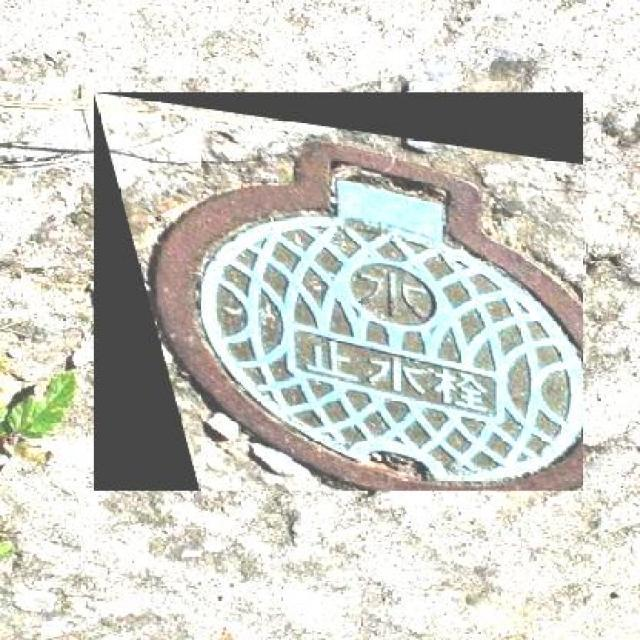Manhole: (94, 92, 583, 491)
